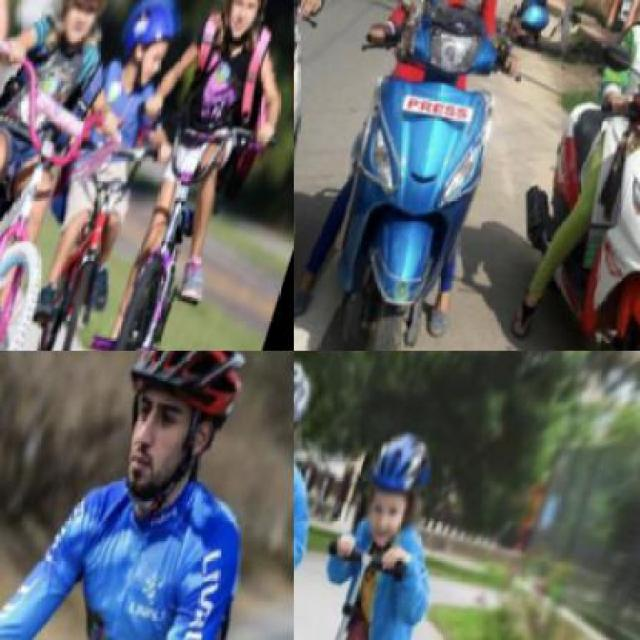With Helmet: (97, 351, 261, 517), (342, 423, 448, 555), (104, 0, 190, 102), (38, 0, 136, 62), (294, 351, 326, 492), (208, 0, 292, 51)
